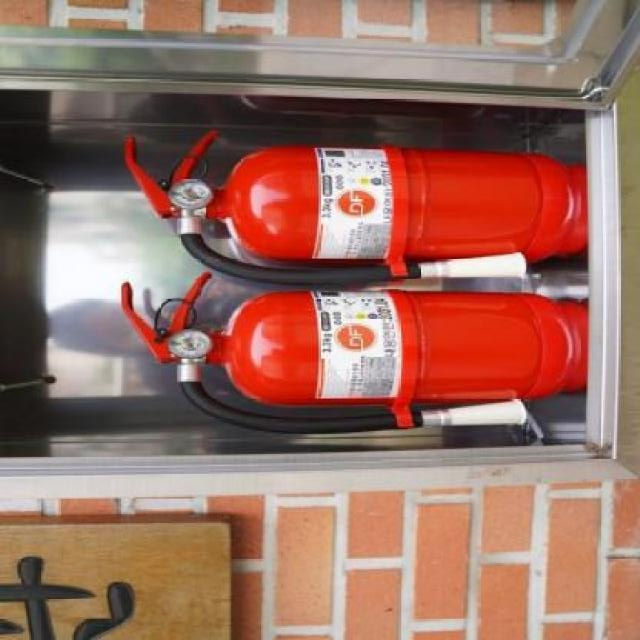fire extinguisher: (120, 272, 589, 434), (123, 130, 588, 285)
